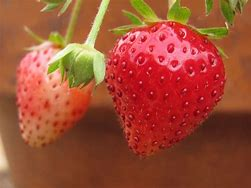Fresa: (105, 14, 229, 160)
